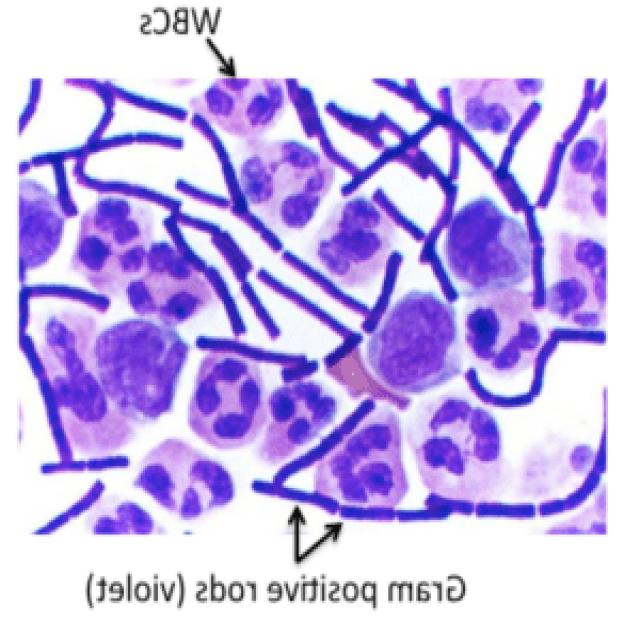Amoeba: (19, 71, 610, 537)
